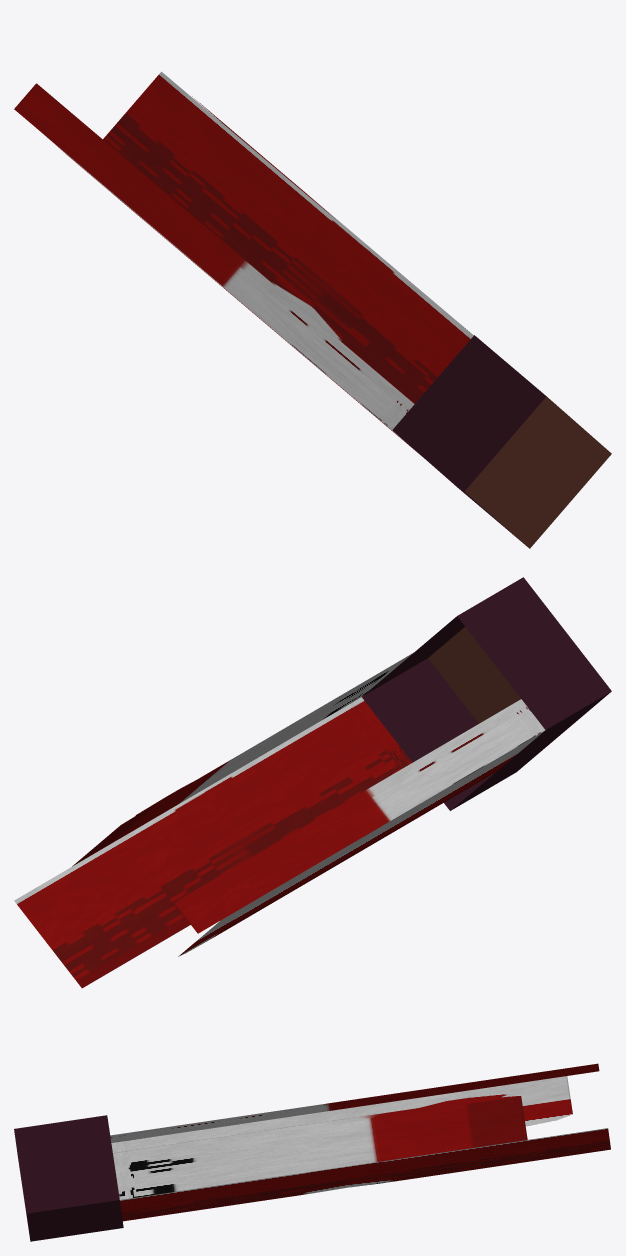
Rendered from cigarette_2.fbx.
3 renders of one model, top to bottom at view 1: azimuth 30°, elevation 25°; view 2: azimuth 150°, elevation 25°; view 3: azimuth 270°, elevation 25°, orthographic. The views are drawn at different scales.
Visible parts, largest first — view 1: cigareta; view 2: cigareta; view 3: cigareta.
Boxes of the visible parts, <box> form: cigareta: <box>14,71,611,548</box>; cigareta: <box>14,577,611,988</box>; cigareta: <box>14,1063,610,1241</box>.
Bounding box in the file's own units: 1.78 × 2.19 × 6.43.
